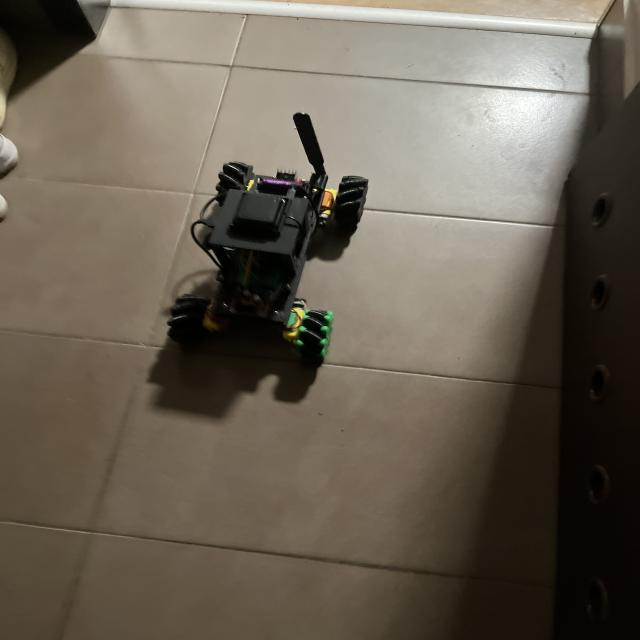robot: (167, 113, 368, 365)
